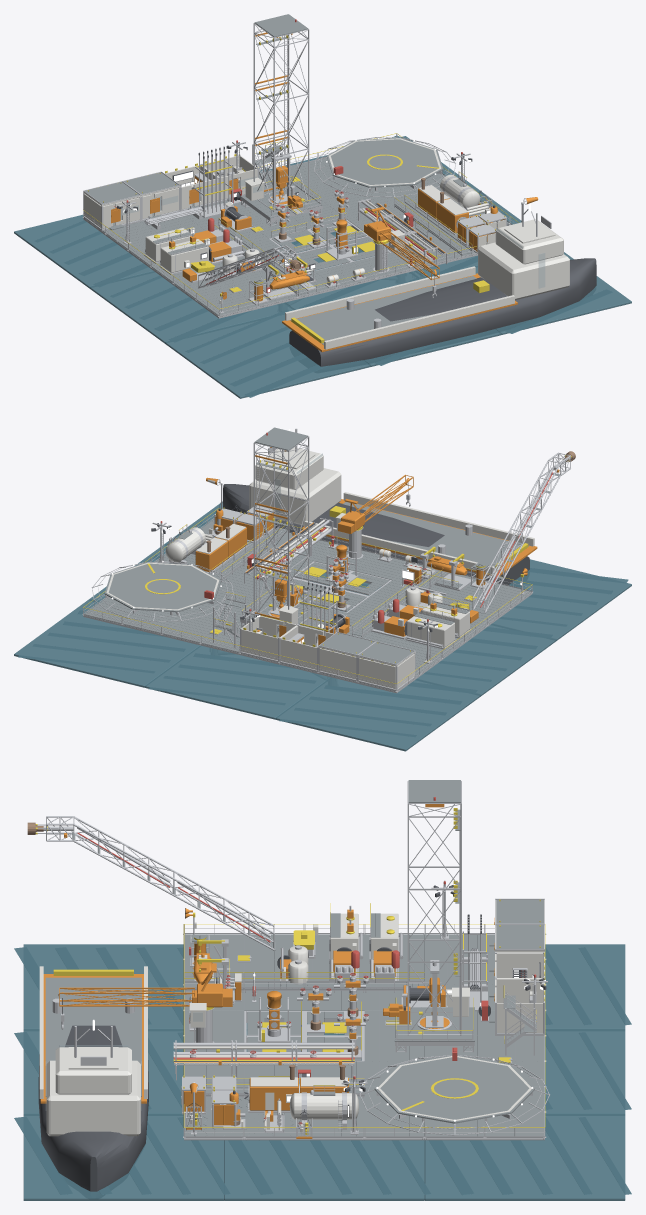
The model's file is offshore_oil_platform.glb.
3 renders of one model, top to bottom at view 1: azimuth 30°, elevation 25°; view 2: azimuth 150°, elevation 25°; view 3: azimuth 270°, elevation 25°, orthographic. The views are drawn at different scales.
Parts seen in each view (by area): view 1: 173-supply-vessel-hull/3, 173-supply-vessel-hull/0, 002-sea-surface-module/0, 001-sea-surface-module/0, 000-sea-surface-module/0, 145-helideck/1, 173-supply-vessel-hull/2, 008-sea-surface-module/0, 004-sea-surface-module/0, 096-derrick-section/0, 097-derrick-section/0, 102-setback-pipe-rack/0 (+30 smaller); view 2: 000-sea-surface-module/0, 006-sea-surface-module/0, 173-supply-vessel-hull/3, 003-sea-surface-module/0, 002-sea-surface-module/0, 001-sea-surface-module/0, 145-helideck/1, 173-supply-vessel-hull/0, 173-supply-vessel-hull/2, 136-accommodation-module-block/2, 135-accommodation-module-block/2, 133-accommodation-module-block/2 (+36 smaller); view 3: 006-sea-surface-module/0, 007-sea-surface-module/0, 008-sea-surface-module/0, 173-supply-vessel-hull/3, 145-helideck/1, 002-sea-surface-module/0, 003-sea-surface-module/0, 000-sea-surface-module/0, 173-supply-vessel-hull/0, 173-supply-vessel-hull/2, 005-sea-surface-module/0, 146-pedestal-crane/crane-boom (+56 smaller).
Part boxes in pixels (left/top/right/bottom): 173-supply-vessel-hull/3: left=285, top=219, right=569, bottom=349; 173-supply-vessel-hull/0: left=289, top=258, right=596, bottom=366; 002-sea-surface-module/0: left=165, top=309, right=370, bottom=398; 001-sea-surface-module/0: left=89, top=271, right=294, bottom=343; 000-sea-surface-module/0: left=14, top=208, right=153, bottom=287; 145-helideck/1: left=326, top=137, right=443, bottom=187; 173-supply-vessel-hull/2: left=290, top=276, right=476, bottom=344; 008-sea-surface-module/0: left=475, top=252, right=631, bottom=334; 004-sea-surface-module/0: left=280, top=231, right=425, bottom=309; 096-derrick-section/0: left=253, top=80, right=309, bottom=157; 097-derrick-section/0: left=253, top=31, right=309, bottom=102; 102-setback-pipe-rack/0: left=195, top=146, right=233, bottom=217; 000-sea-surface-module/0: left=275, top=677, right=480, bottom=751; 006-sea-surface-module/0: left=14, top=599, right=199, bottom=687; 173-supply-vessel-hull/3: left=249, top=447, right=534, bottom=574; 003-sea-surface-module/0: left=144, top=645, right=330, bottom=719; 002-sea-surface-module/0: left=492, top=559, right=631, bottom=640; 001-sea-surface-module/0: left=417, top=623, right=556, bottom=695; 145-helideck/1: left=104, top=562, right=221, bottom=612; 173-supply-vessel-hull/0: left=223, top=484, right=529, bottom=584; 173-supply-vessel-hull/2: left=343, top=502, right=528, bottom=570; 136-accommodation-module-block/2: left=241, top=616, right=296, bottom=660; 135-accommodation-module-block/2: left=280, top=625, right=333, bottom=669; 133-accommodation-module-block/2: left=359, top=654, right=414, bottom=688; 006-sea-surface-module/0: left=424, top=1113, right=631, bottom=1200; 007-sea-surface-module/0: left=224, top=1140, right=430, bottom=1200; 008-sea-surface-module/0: left=14, top=1113, right=230, bottom=1200; 173-supply-vessel-hull/3: left=39, top=966, right=147, bottom=1136; 145-helideck/1: left=374, top=1055, right=534, bottom=1123; 002-sea-surface-module/0: left=14, top=944, right=183, bottom=1028; 003-sea-surface-module/0: left=545, top=1029, right=631, bottom=1113; 000-sea-surface-module/0: left=545, top=944, right=631, bottom=1028; 173-supply-vessel-hull/0: left=38, top=1025, right=148, bottom=1191; 173-supply-vessel-hull/2: left=45, top=977, right=141, bottom=1096; 005-sea-surface-module/0: left=14, top=1029, right=183, bottom=1113; 146-pedestal-crane/crane-boom: left=58, top=987, right=196, bottom=1006.
Bounding box in the file's own units: 60 × 33.56 × 61.61.
